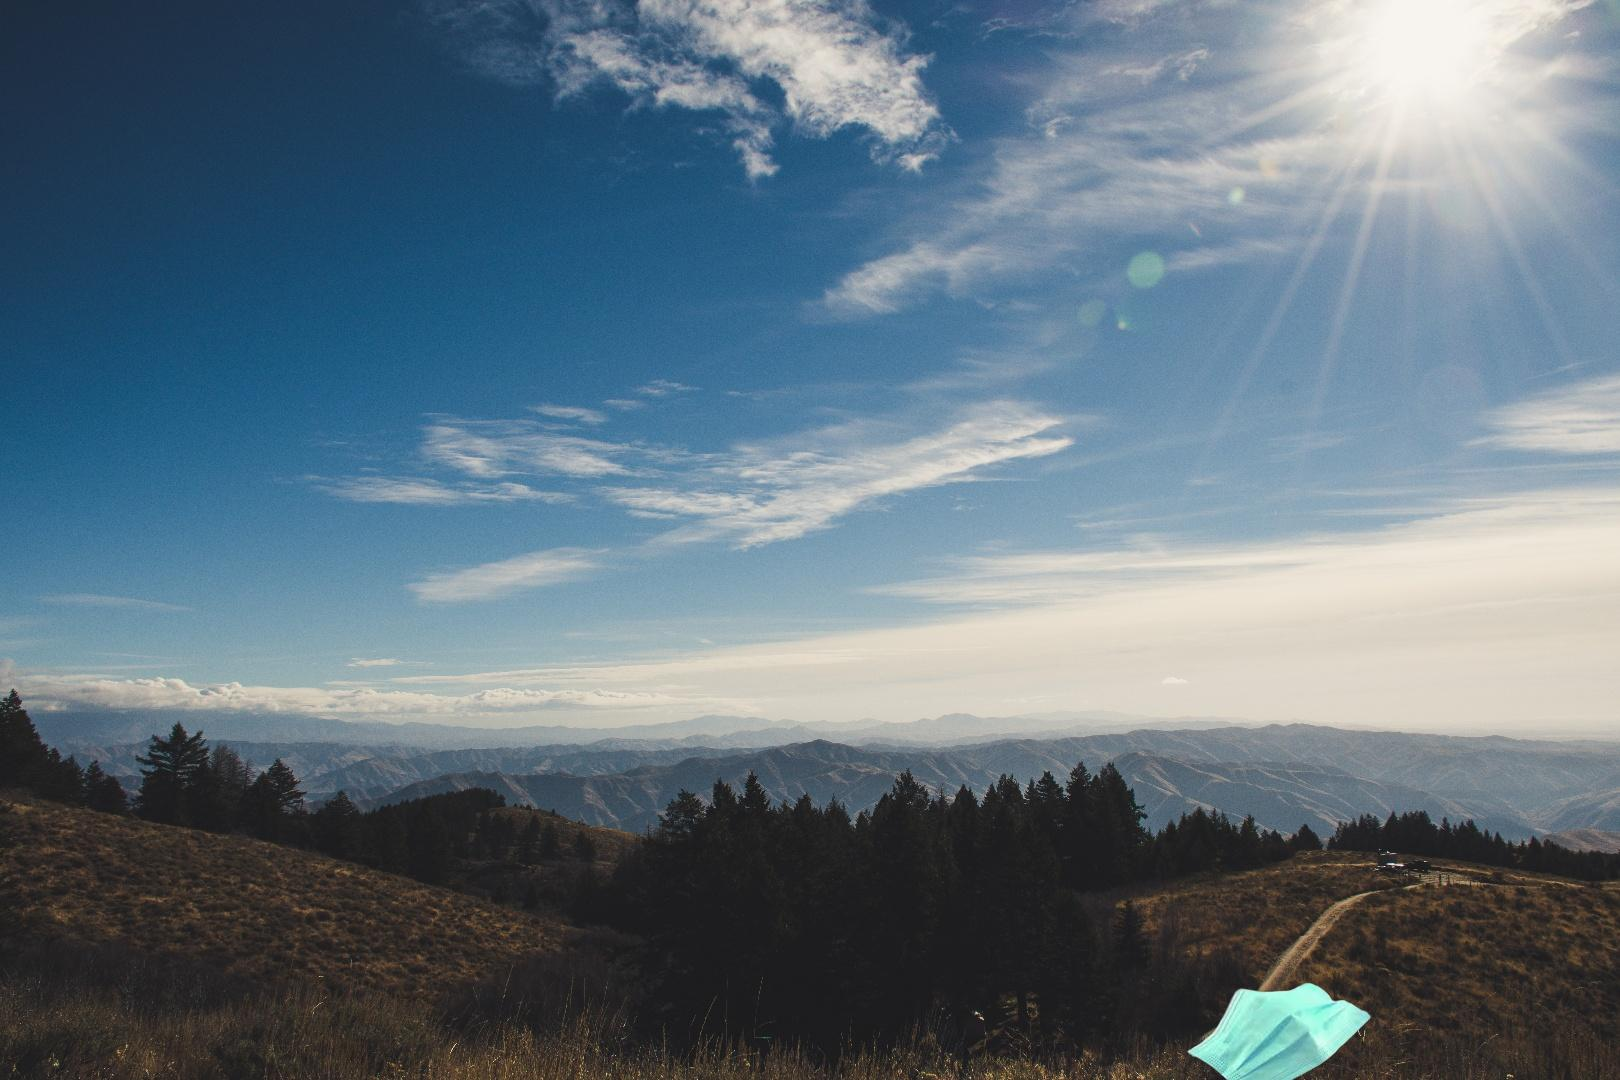trash: (1182, 981, 1385, 1080)
